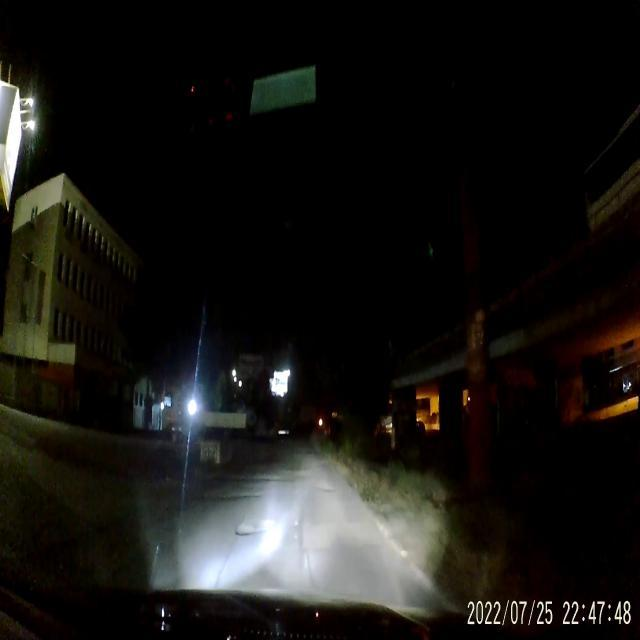Pothole: (230, 514, 268, 536), (257, 472, 293, 486), (216, 493, 260, 504), (314, 488, 334, 494)
